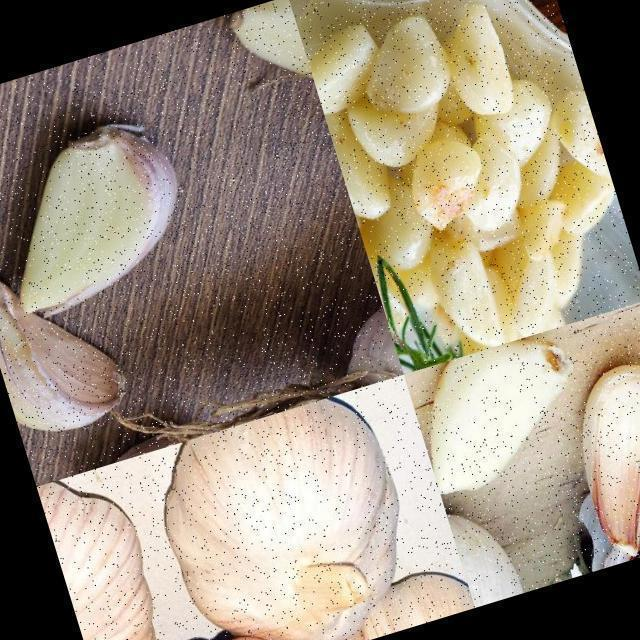garlic: (303, 0, 640, 373), (136, 385, 438, 640), (0, 102, 209, 316), (403, 326, 600, 498), (36, 461, 187, 640), (0, 264, 139, 453), (545, 345, 640, 561), (537, 454, 640, 580), (225, 0, 320, 123), (320, 294, 402, 391)
